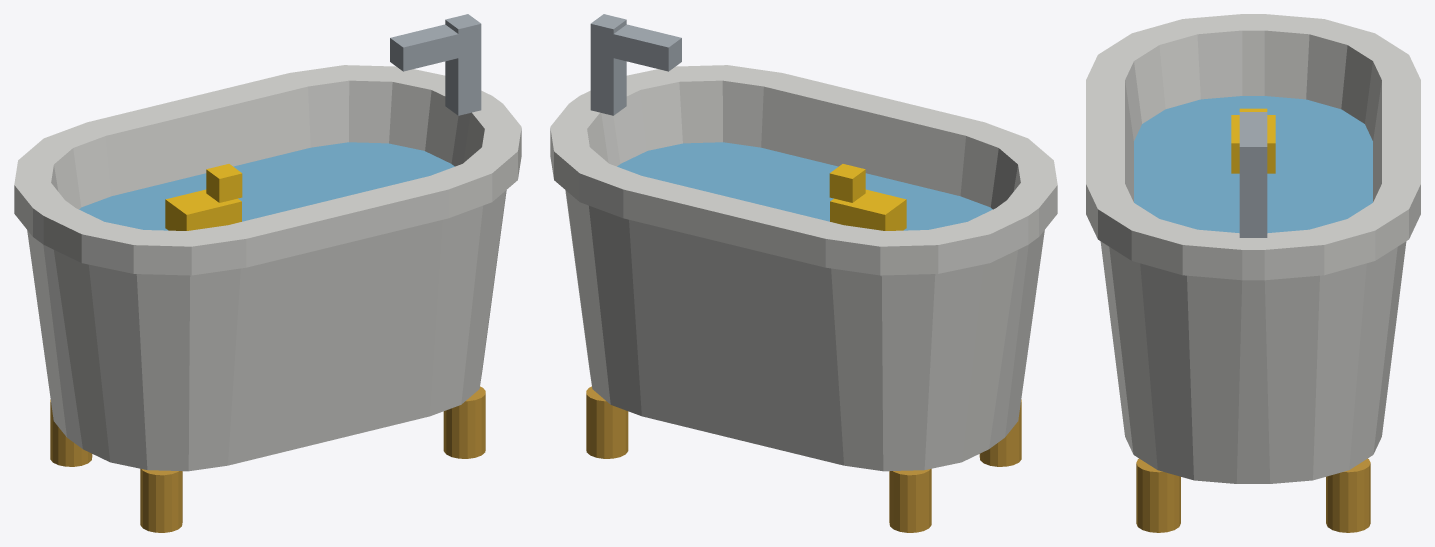
Rendered from bathtub.glb.
3 renders of one model, left to right at view 1: azimuth 30°, elevation 25°; view 2: azimuth 150°, elevation 25°; view 3: azimuth 270°, elevation 25°, orthographic. The views are drawn at different scales.
Visible parts, largest first — view 1: bathtub_Body; view 2: bathtub_Body; view 3: bathtub_Body.
Boxes of the visible parts, x1,y1,x2,y2 form: bathtub_Body: [14, 14, 521, 532]; bathtub_Body: [550, 14, 1057, 532]; bathtub_Body: [1086, 14, 1420, 532].
Bounding box in the file's own units: 1 × 0.8 × 0.6.
